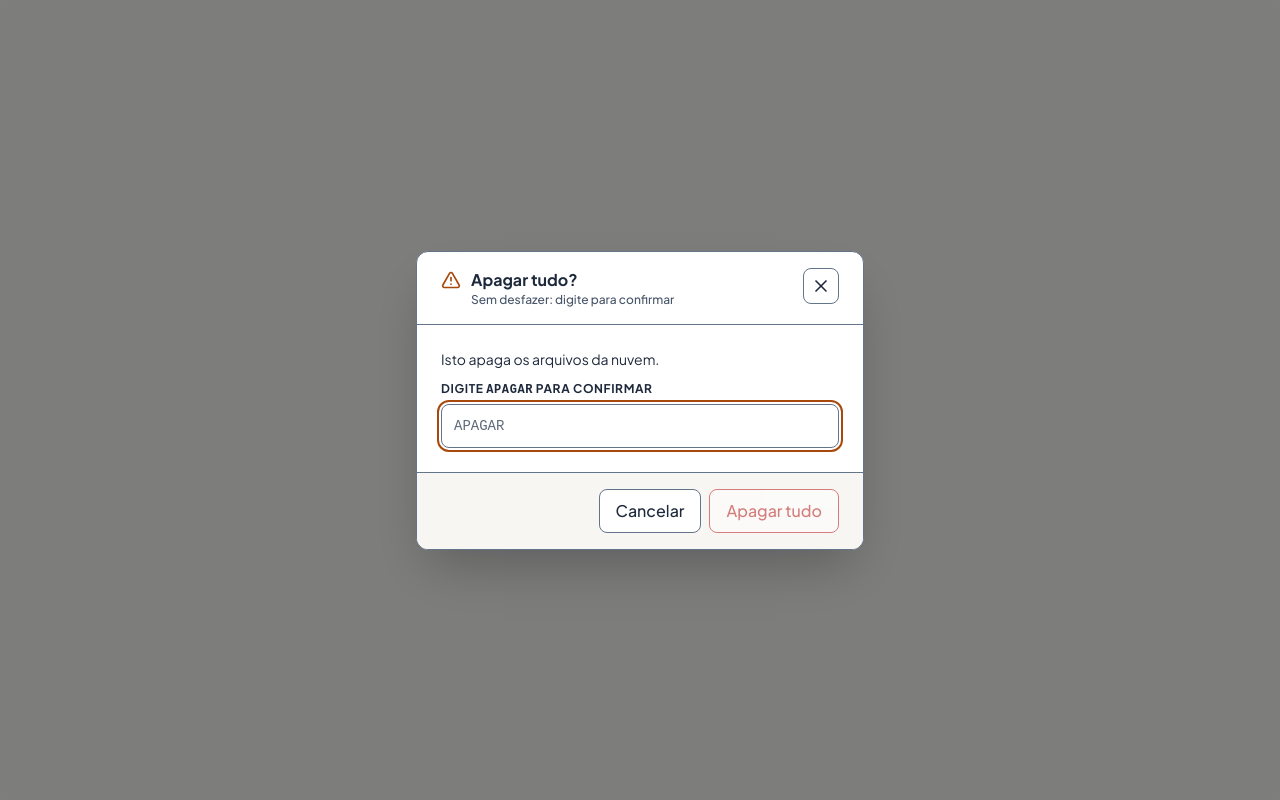
TypeToConfirmDialog › confirm starts disarmed and near-misses do not arm it
Expected: the button "Apagar tudo" is disabled, [709, 488, 839, 532]
Type "apagar" into the field labelled "Digite APAGAR para confirmar".
click(640, 426); type("apagar")  # box [441, 404, 839, 448]
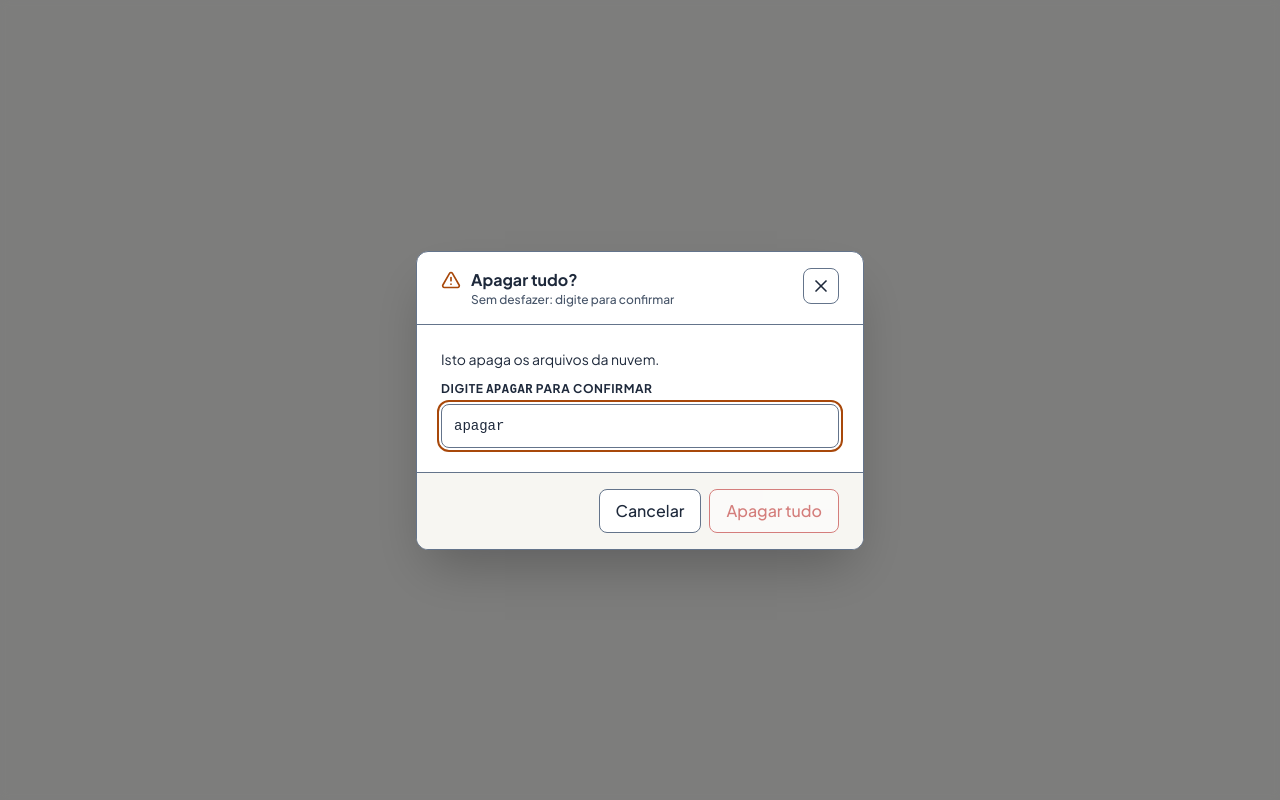
Expected: the button "Apagar tudo" is disabled, [709, 488, 839, 532]
Replace the text in the field labelled "Digite APAGAR para confirmar" with " APAGAR " at coordinates (640, 426), box [441, 404, 839, 448]
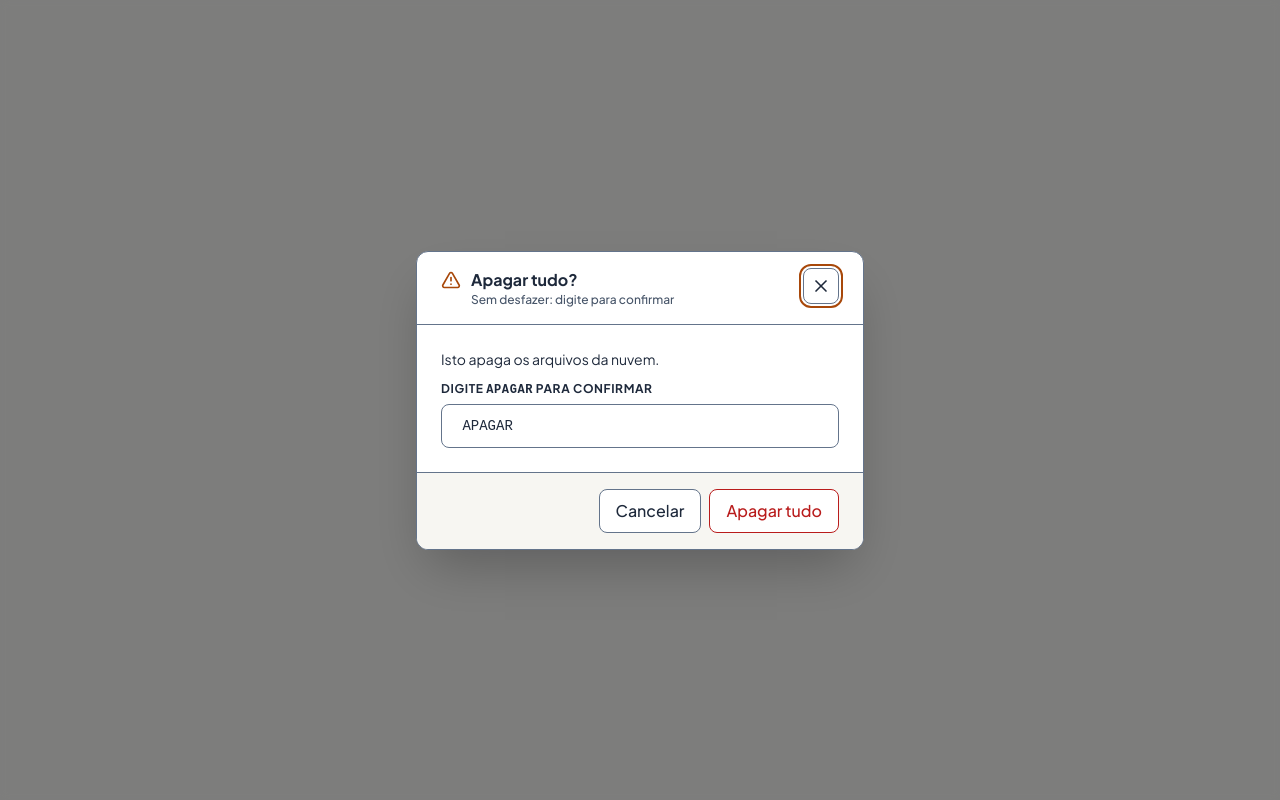
Expected: the button "Apagar tudo" is enabled, [709, 488, 839, 532]
